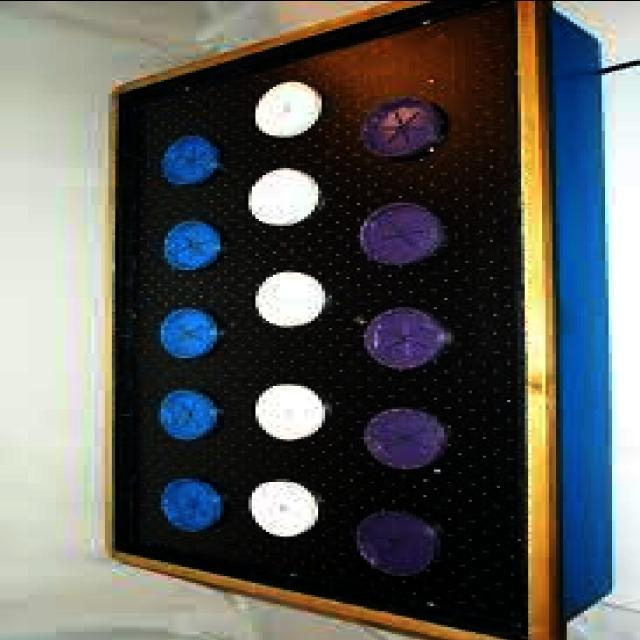chip: (357, 510, 440, 576), (364, 308, 448, 371), (361, 203, 443, 266), (364, 408, 446, 470), (361, 97, 444, 158), (248, 167, 322, 227), (249, 477, 320, 539), (254, 383, 326, 444), (254, 270, 326, 328), (254, 80, 322, 139), (157, 311, 218, 367), (161, 481, 229, 531), (164, 140, 217, 192), (158, 395, 212, 443), (166, 222, 218, 268)
